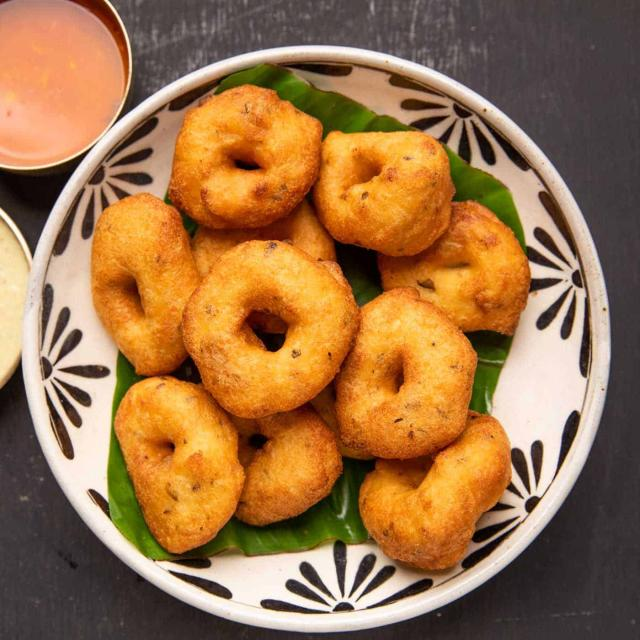MEDU VADA: (185, 241, 361, 416), (172, 83, 326, 232), (339, 302, 474, 455), (122, 380, 245, 547), (356, 431, 505, 566), (384, 195, 528, 334), (322, 128, 456, 253), (100, 204, 199, 366), (242, 416, 339, 527)
